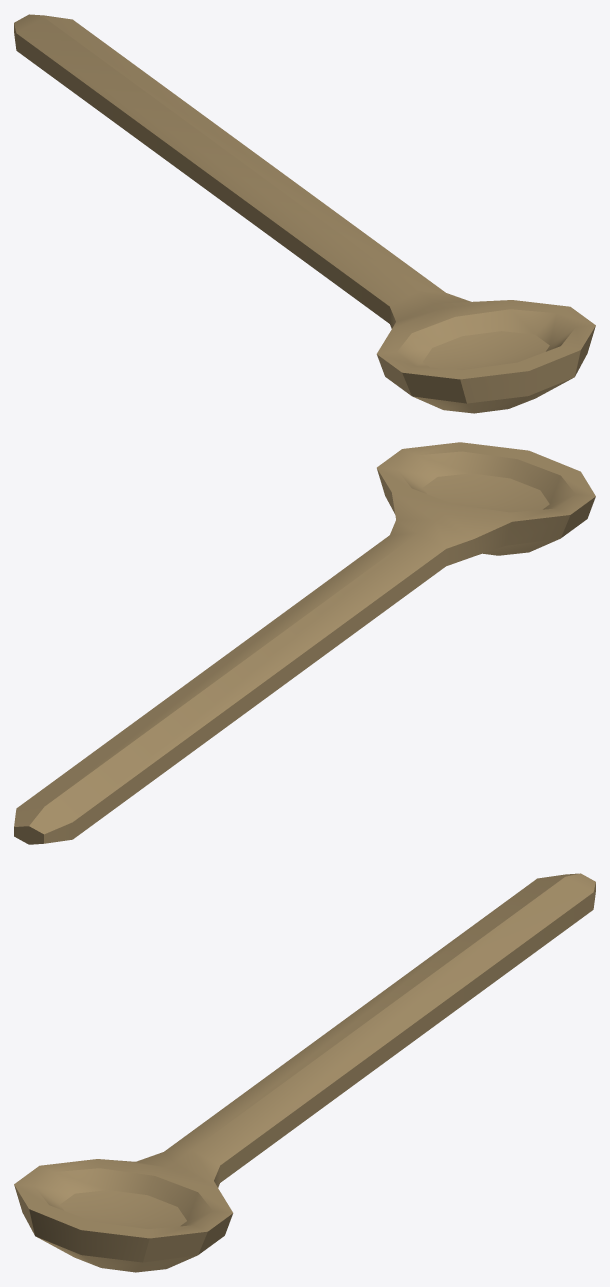
Rendered from EA_Items_House_spoon_wooden_04.glb.
3 renders of one model, top to bottom at view 1: azimuth 30°, elevation 25°; view 2: azimuth 150°, elevation 25°; view 3: azimuth 330°, elevation 25°, orthographic.
Visible parts, largest first — view 1: EA_Items_House_spoon_wooden_04; view 2: EA_Items_House_spoon_wooden_04; view 3: EA_Items_House_spoon_wooden_04.
Boxes of the visible parts, <box> form: EA_Items_House_spoon_wooden_04: <box>14,14,595,413</box>; EA_Items_House_spoon_wooden_04: <box>14,442,595,844</box>; EA_Items_House_spoon_wooden_04: <box>14,873,595,1272</box>.
Bounding box in the file's own units: 0.097 × 0.0252 × 0.4334.
1 material, 1 textured.
